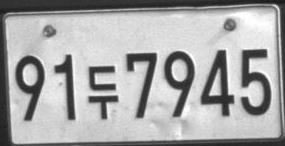1: (51, 54, 85, 121)
4: (199, 49, 235, 117)
5: (239, 47, 272, 116)
7: (125, 52, 157, 119)
9: (162, 50, 195, 117), (13, 54, 45, 121)
두: (87, 64, 118, 119)
